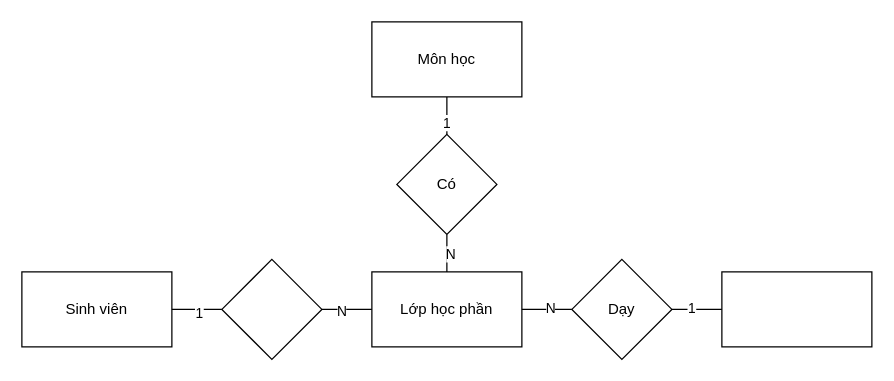
The diagram is 894 pixels wide and 381 high, and some of its shapes have lost their labels. Each missing label, with the box of its shape:
Giảng viên: (721, 271, 872, 347)
Đăng kí: (221, 258, 322, 359)
